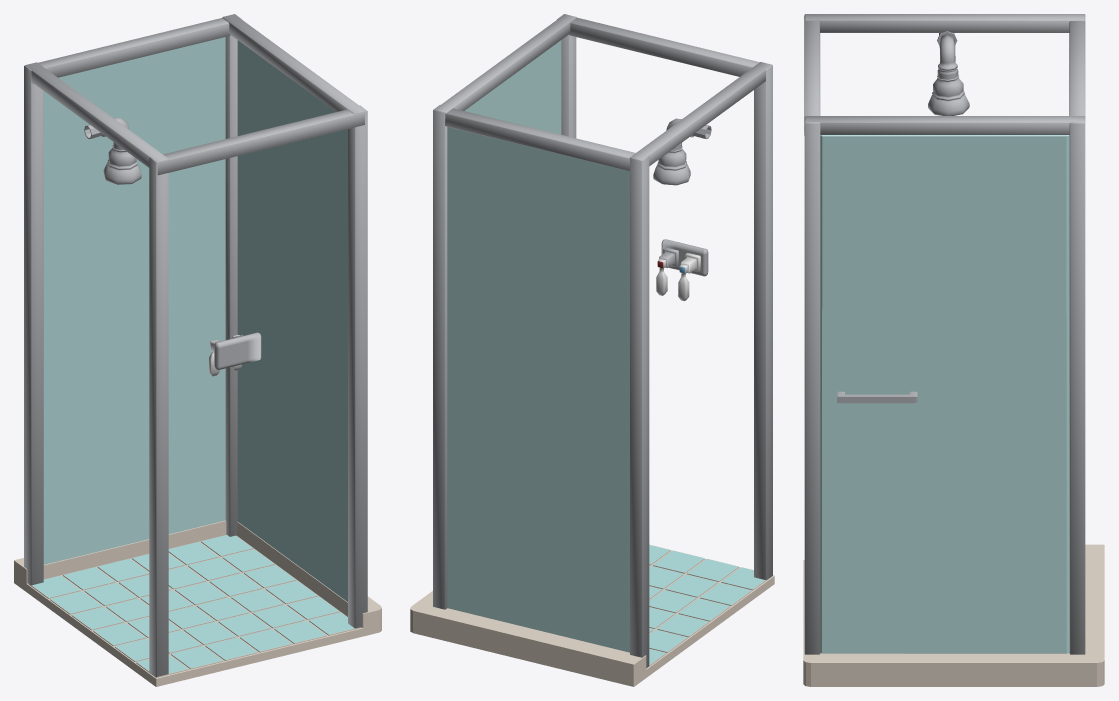
The model's file is Shower.fbx.
3 views of the same model, side by side, from view 1: azimuth 30°, elevation 25°; view 2: azimuth 150°, elevation 25°; view 3: azimuth 270°, elevation 25° (orthographic). The views are drawn at different scales.
Parts seen in each view (by area): view 1: Shower, Shower_door, Shower_faucet_base, Shower_head; view 2: Shower, Shower_door, Shower_head, Shower_faucet_base; view 3: Shower_door, Shower, Shower_head.
Part boxes in pixels (x1,y1,x2,y2): Shower: (14,14,381,686); Shower_door: (237,40,347,601); Shower_faucet_base: (211,332,261,369); Shower_head: (84,118,141,184); Shower: (410,14,774,686); Shower_door: (465,40,561,134); Shower_head: (653,118,711,185); Shower_faucet_base: (659,239,708,276); Shower_door: (820,135,1069,653); Shower: (803,14,1104,686); Shower_head: (928,31,969,115).
Size of the model in its own units: 179 by 391 by 192.
